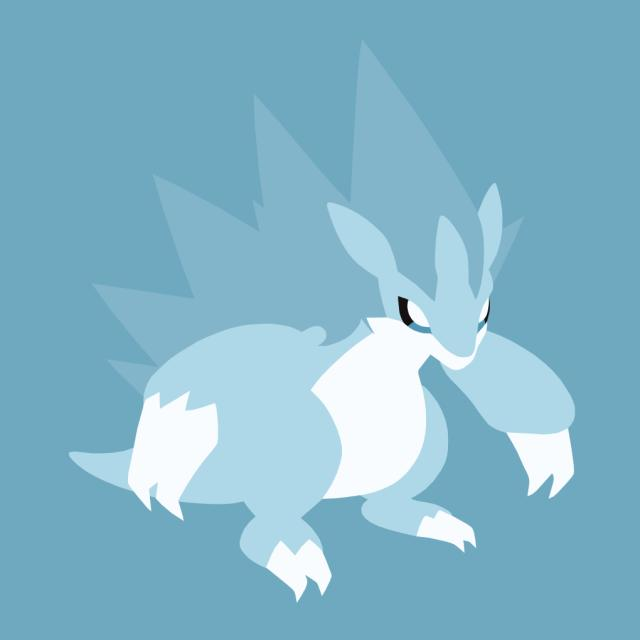Alolan: (85, 121, 548, 593)
